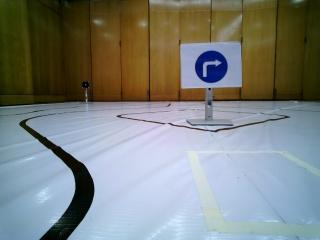right: (181, 45, 242, 88)
